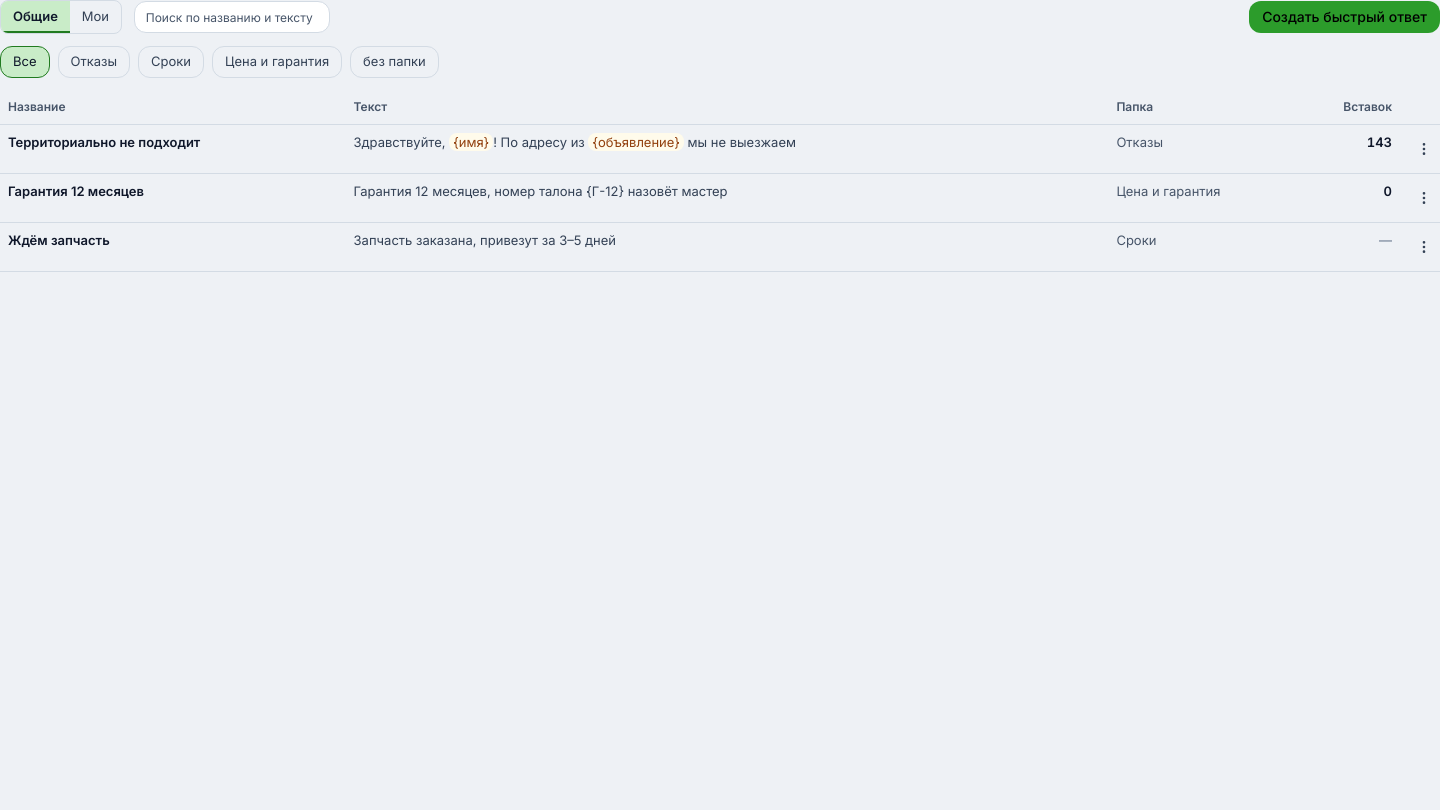
it: Кто видит: правило стоит там, где по нему могли бы кликнуть › у общего ответа вторая половина закрыта — и это сказано словами, не цветом
This screenshot has width=1440, height=810.
expect the table is shown: met, box [0, 90, 1439, 272]
Click the button named "Действия: Территориально не подходит": x=1424, y=149 [1408, 133, 1439, 165]
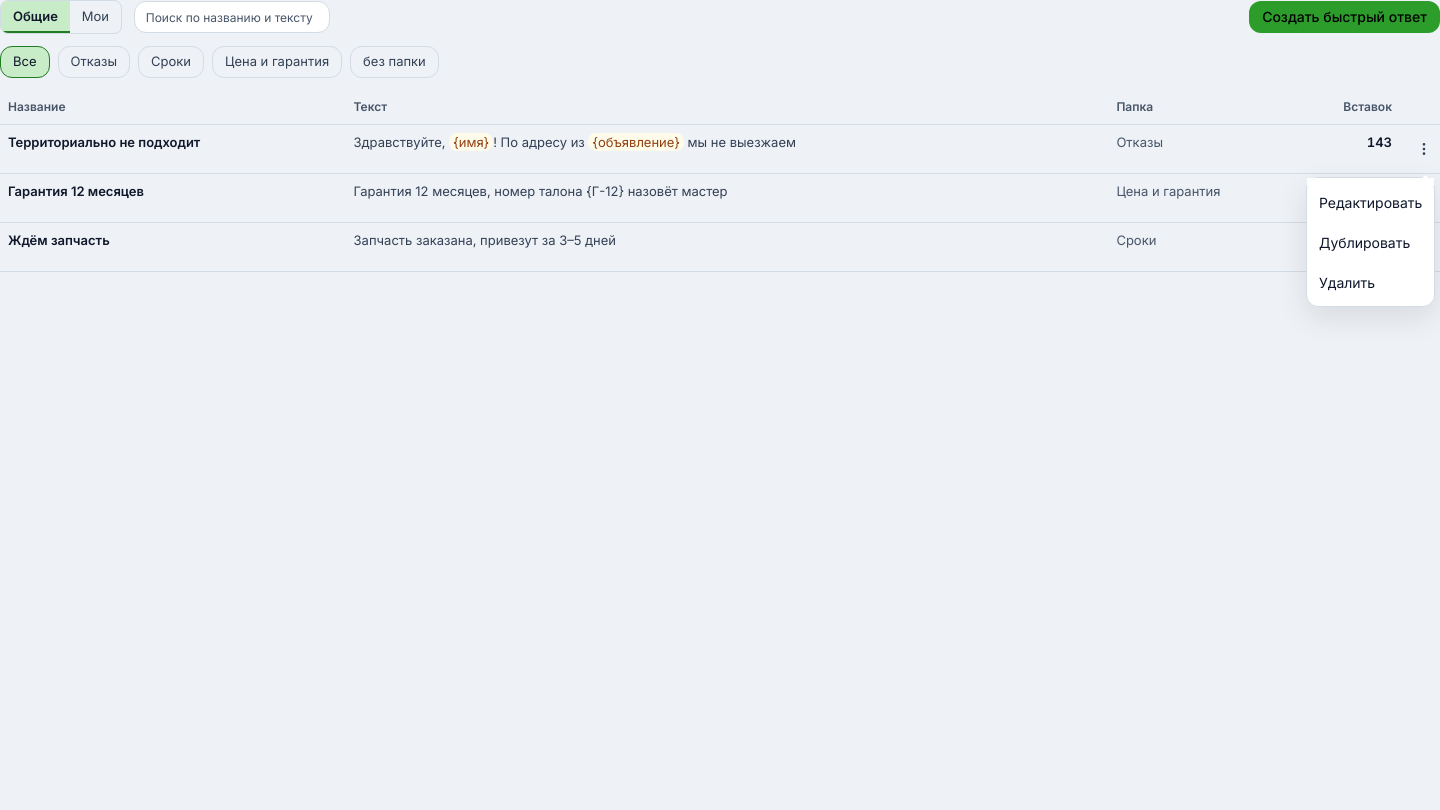
Click the menu item "Редактировать": x=1370, y=202 [1311, 182, 1430, 222]
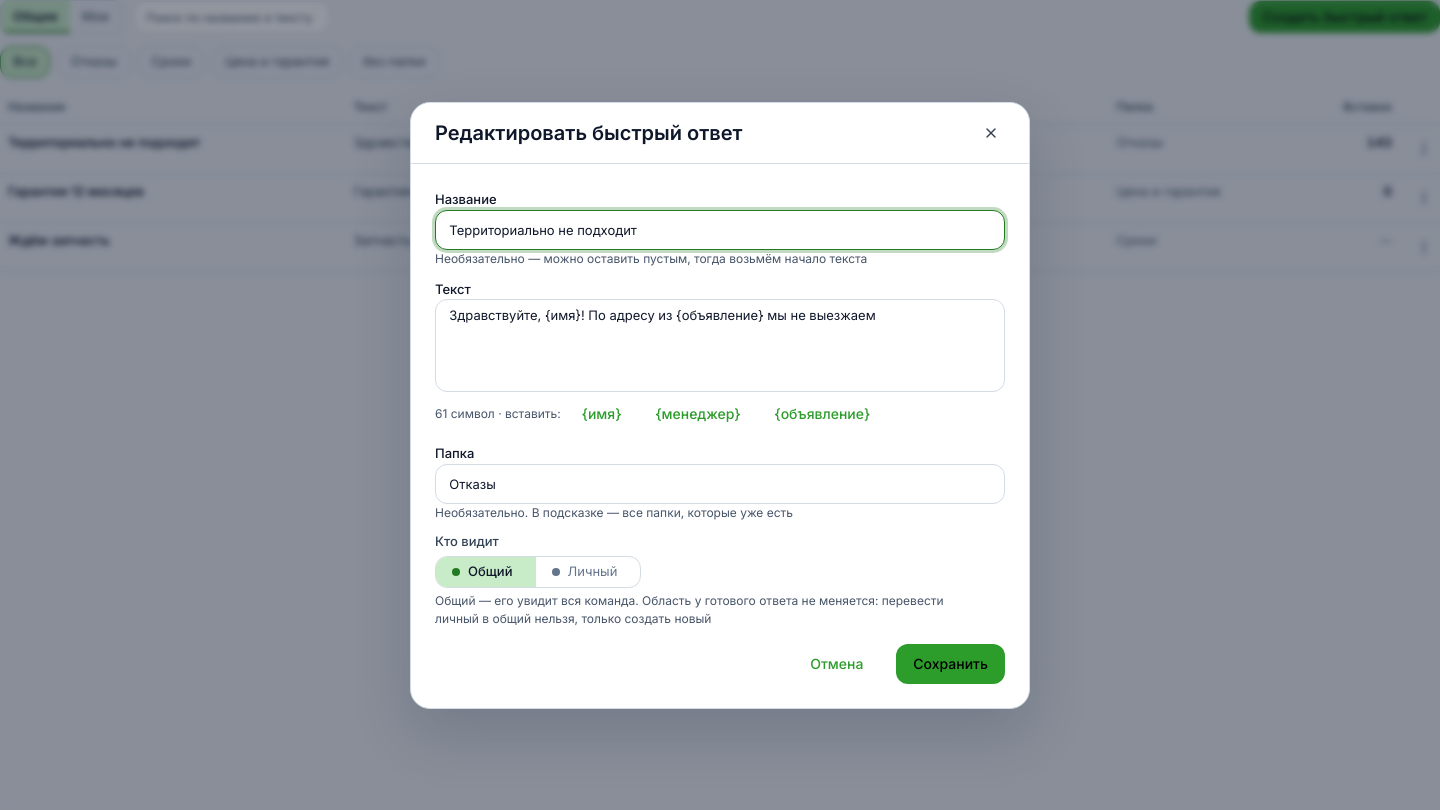
expect the element with class "tpl-scope__opt" reads "Общий": met, box [468, 563, 512, 579]
expect the element "Кто видит" shows "Общий — его увидит вся команда": met, box [435, 592, 635, 607]
